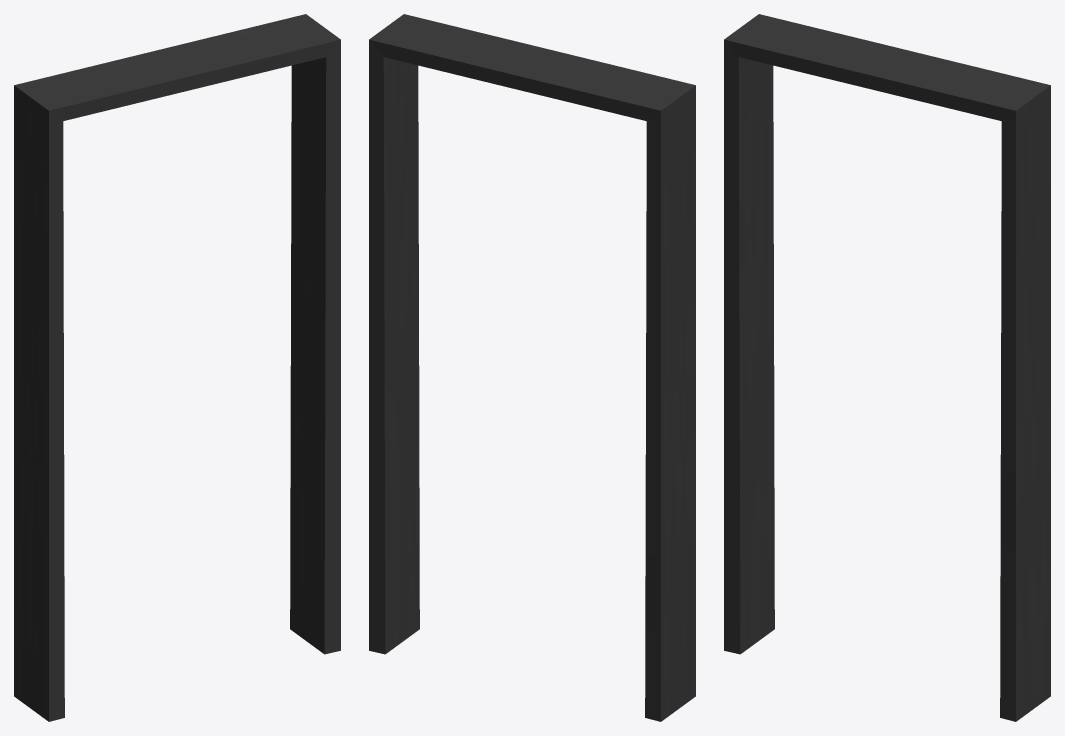
Rendered from Door_Frame_04.fbx.
3 renders of one model, left to right at view 1: azimuth 30°, elevation 25°; view 2: azimuth 150°, elevation 25°; view 3: azimuth 330°, elevation 25°, orthographic.
Visible parts, largest first — view 1: Door_Frame_04; view 2: Door_Frame_04; view 3: Door_Frame_04.
Part boxes in pixels (bbox=[...]): Door_Frame_04: bbox=[14, 14, 340, 721]; Door_Frame_04: bbox=[369, 14, 695, 721]; Door_Frame_04: bbox=[724, 14, 1050, 721].
Bounding box in the file's own units: 1 × 2 × 0.2074.
